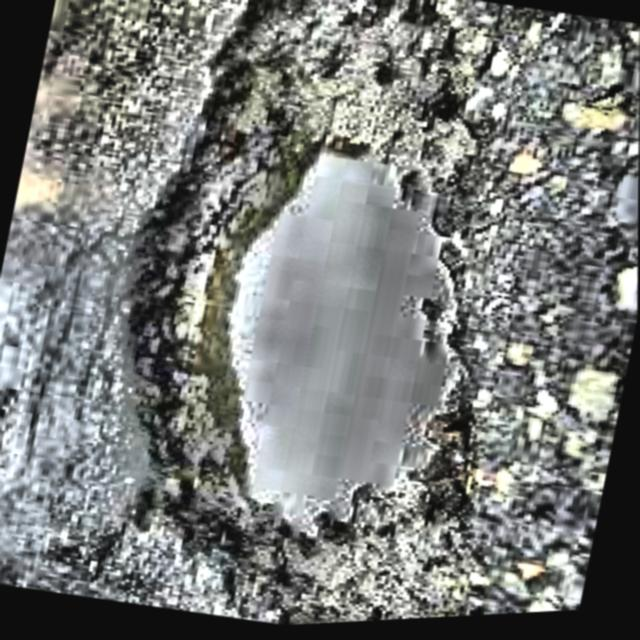pothole: (127, 121, 446, 529)
